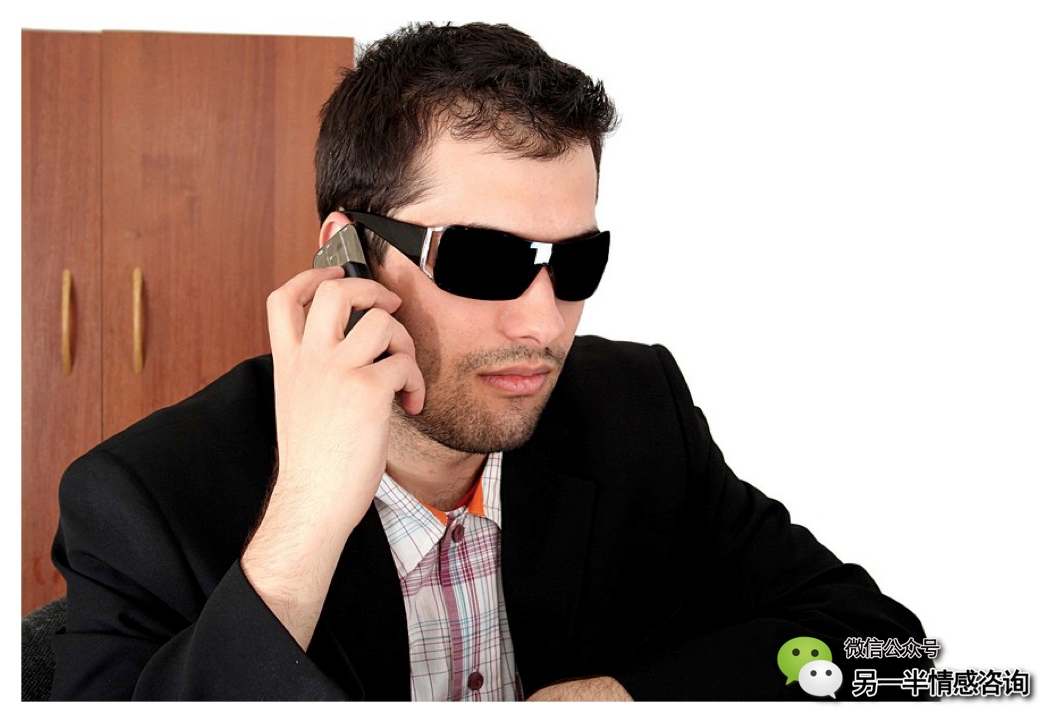calling: (262, 220, 428, 506)
